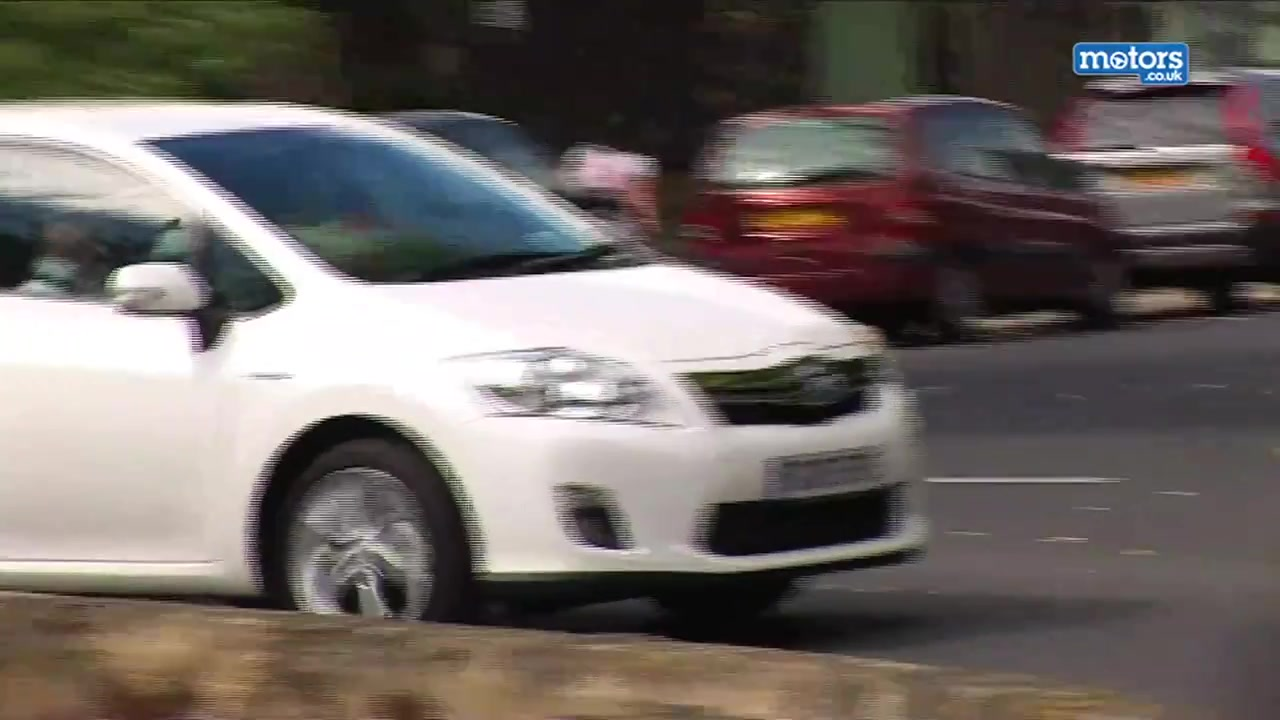car: (3, 95, 937, 626), (679, 91, 1130, 351), (1051, 65, 1280, 299), (377, 102, 661, 258)
